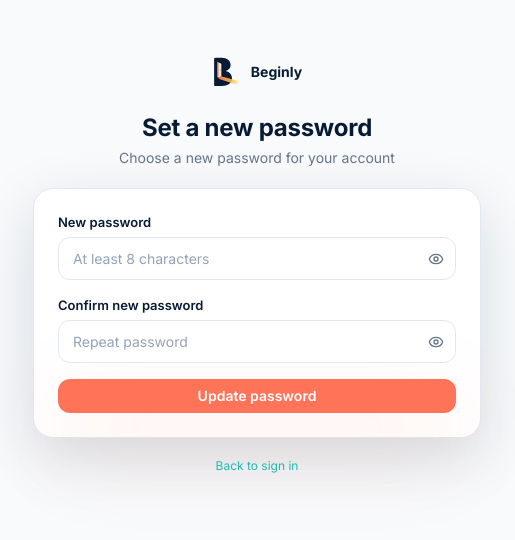
Test: ResetPasswordPage › surfaces the Supabase error when updateUser fails
Expected: the button "Update password" is shown, [58,379,456,413]
Type "longenough1" into the password field with placeholder "At least 8 characters" at (257, 258), box [58,237,456,280]
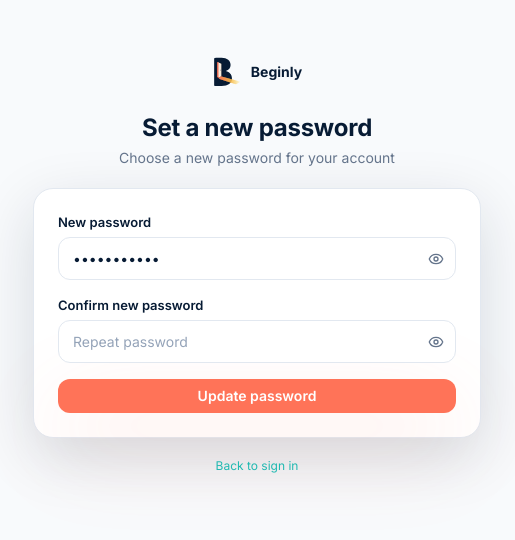
Type "longenough1" into the password field with placeholder "Repeat password" at (257, 342), box [58,320,456,363]
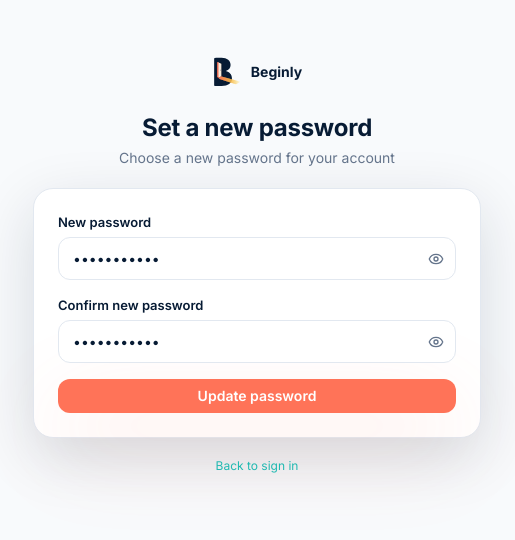
Submit the form, box [33,188,481,438]
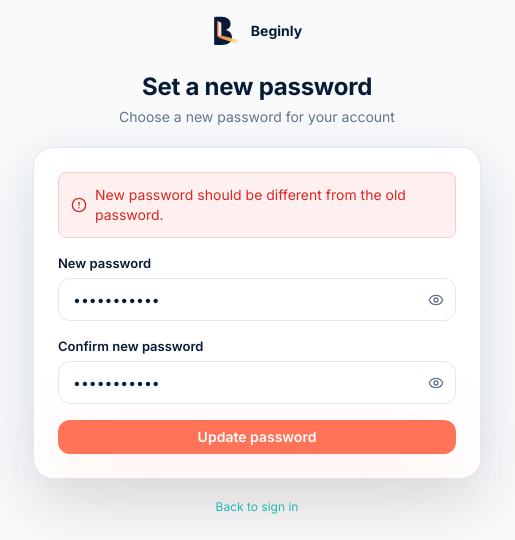
Now the text "New password should be different from the old password." is shown, box [58,172,456,238]
